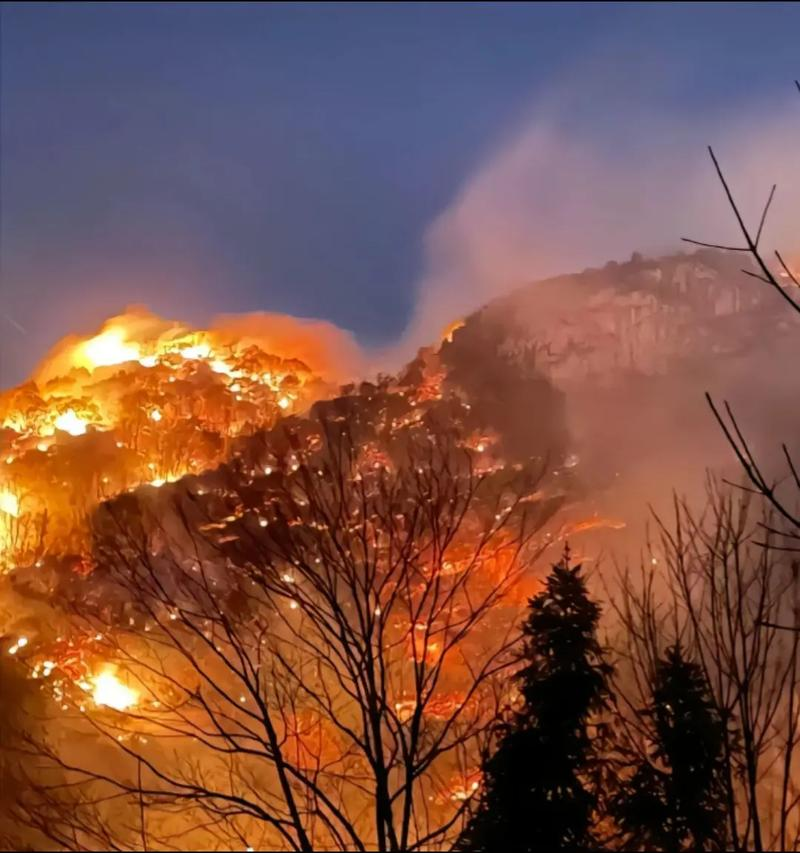fire: (1, 277, 505, 740)
